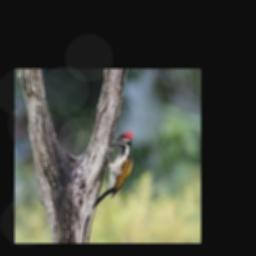Woodpecker: (92, 132, 132, 207)
